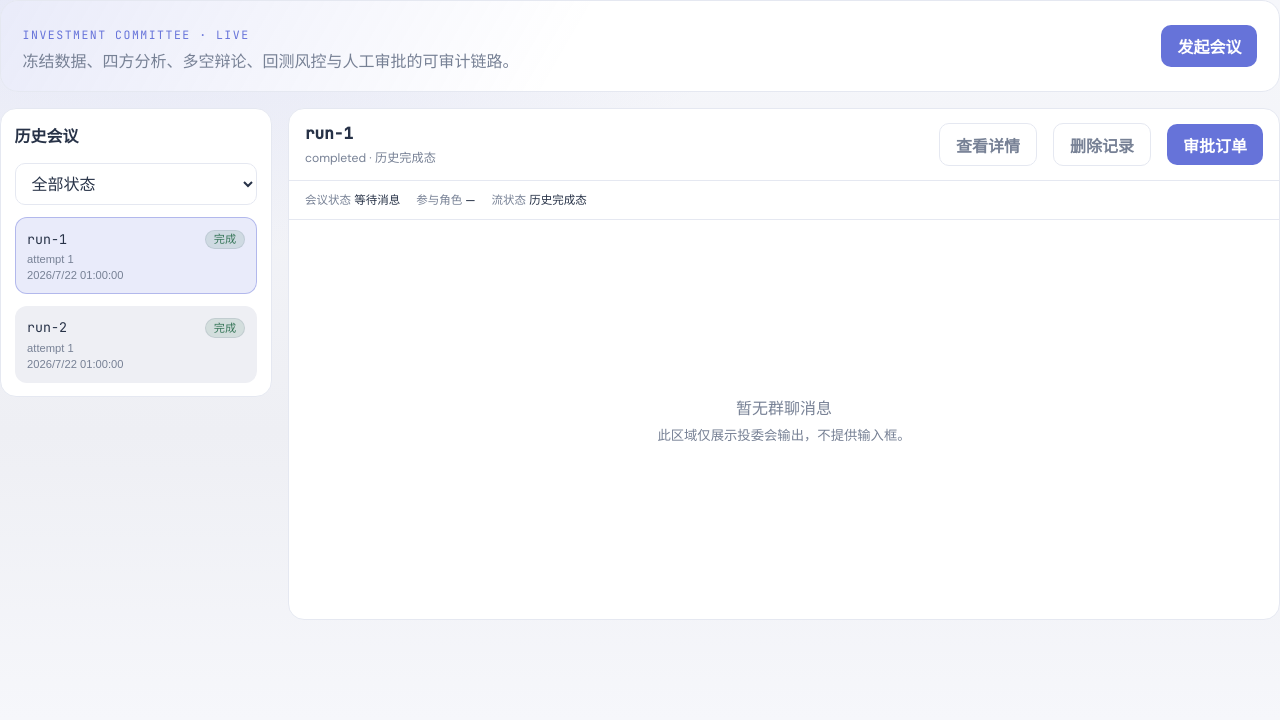
CommitteePage › 确认删除后刷新历史并自动选择下一条
Click the button "删除记录" at (1102,145), box x1=1053 y1=123 x2=1151 y2=166
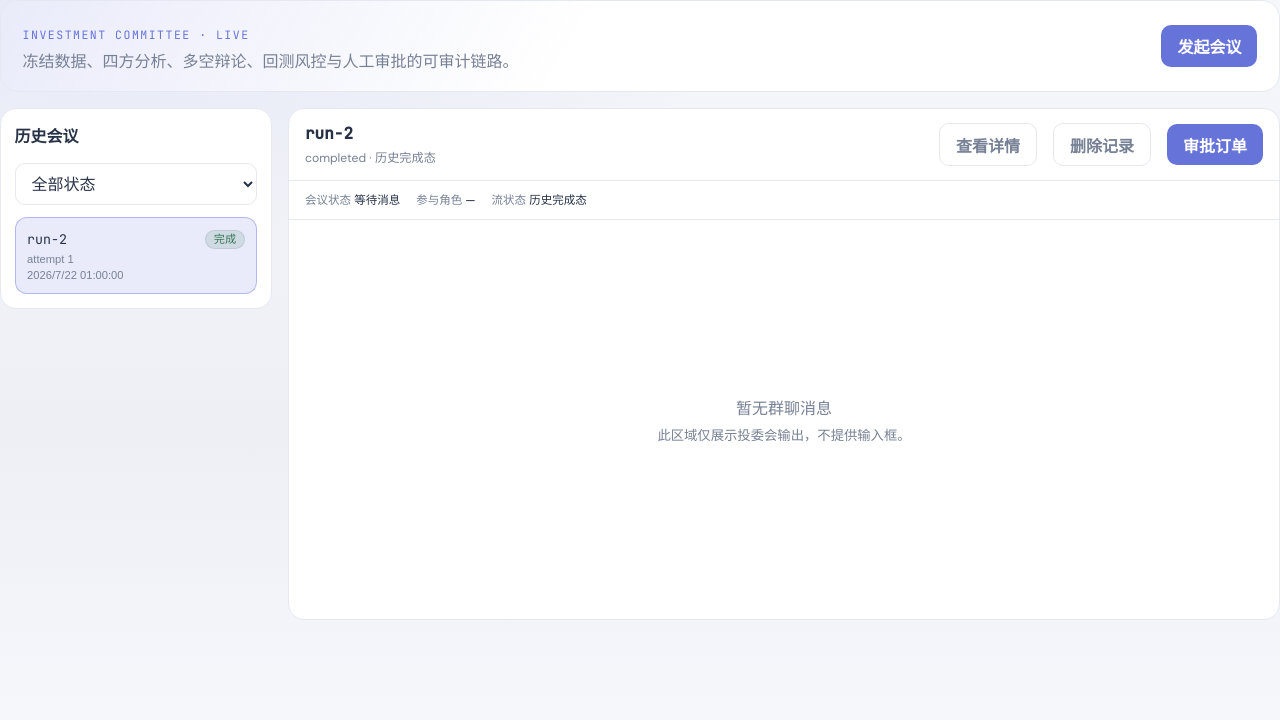
Result: the heading "run-2" is shown at x1=305 y1=123 x2=353 y2=144
